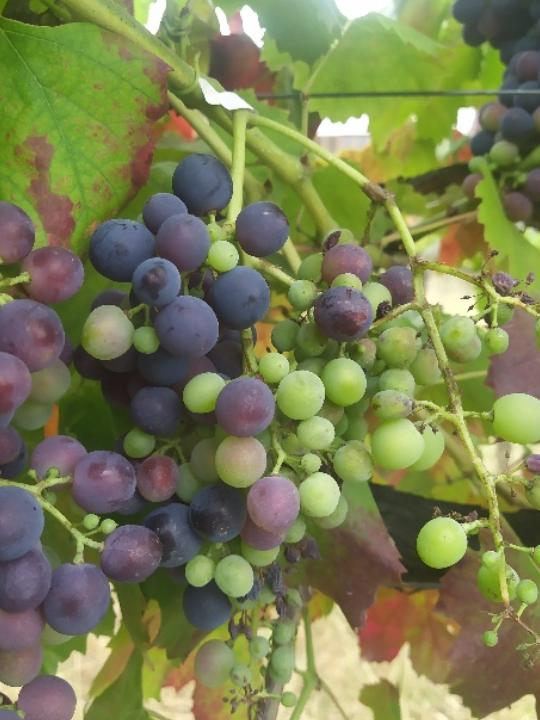grape: (77, 149, 354, 720), (312, 225, 540, 686)
